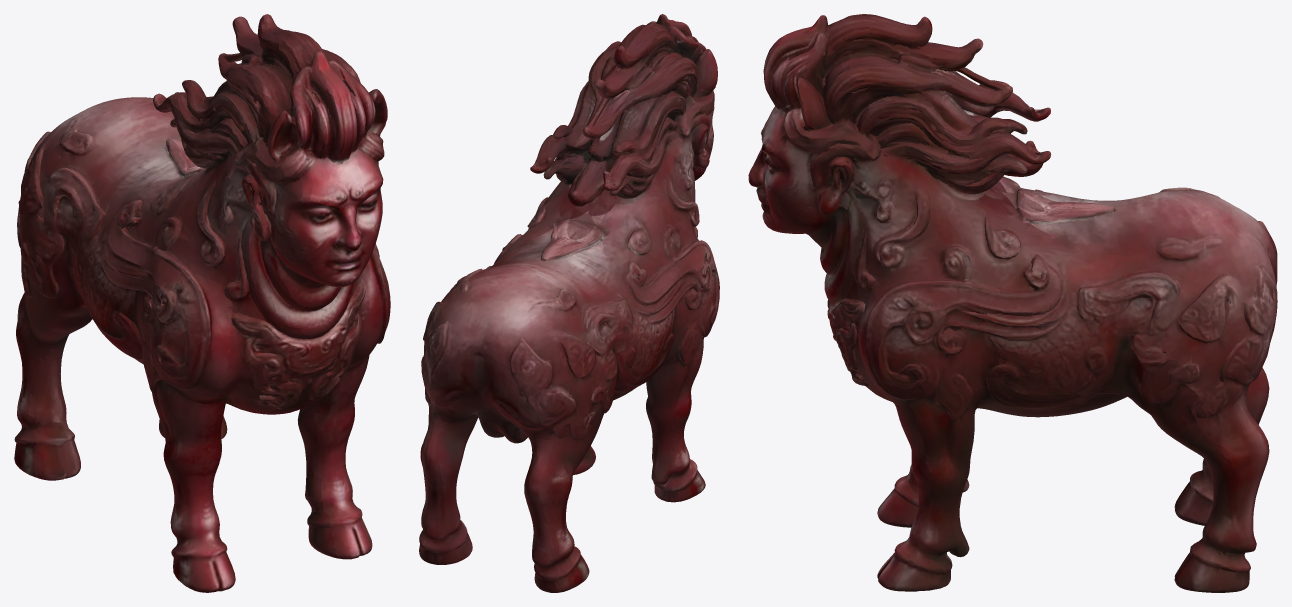
File: yayu.glb
3 views of the same model, side by side, from view 1: azimuth 30°, elevation 25°; view 2: azimuth 150°, elevation 25°; view 3: azimuth 270°, elevation 25° (orthographic). The views are drawn at different scales.
Visible parts, largest first — view 1: geometry_0; view 2: geometry_0; view 3: geometry_0.
Part boxes in pixels (x1,y1,x2,y2): geometry_0: (14,14,390,592); geometry_0: (419,14,719,592); geometry_0: (748,14,1277,592).
Bounding box in the file's own units: 0.1623 × 0.38 × 0.3406.
1 material, 1 textured.
